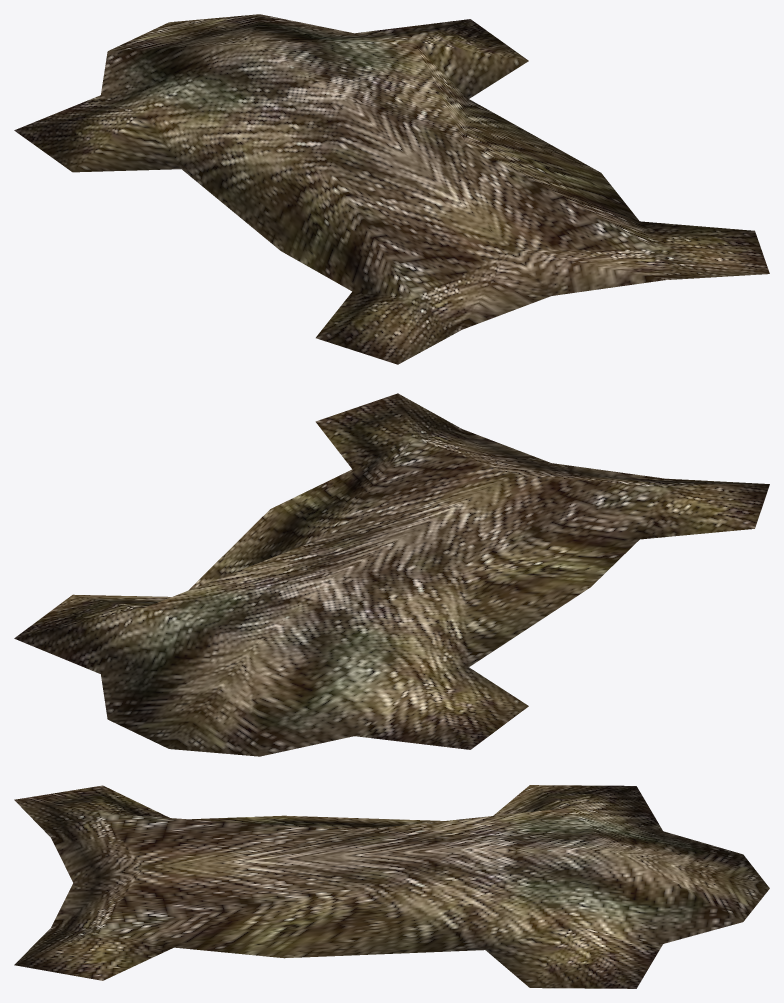
File: ITAT_SWAMPRATSKIN.glb
3 renders of one model, top to bottom at view 1: azimuth 30°, elevation 25°; view 2: azimuth 150°, elevation 25°; view 3: azimuth 270°, elevation 25°, orthographic. The views are drawn at different scales.
Visible parts, largest first — view 1: Mesh; view 2: Mesh; view 3: Mesh.
Part boxes in pixels (x1=…): Mesh: x1=14, y1=14, x2=769, y2=364; Mesh: x1=14, y1=393, x2=769, y2=756; Mesh: x1=14, y1=785, x2=769, y2=988.
Bounding box in the file's own units: 0.6049 × 0.0578 × 0.9521.
1 material, 1 textured.
